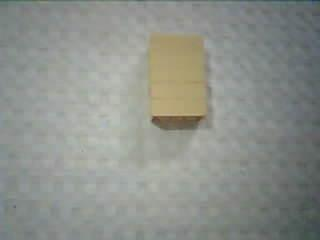lego: (145, 30, 211, 126)
